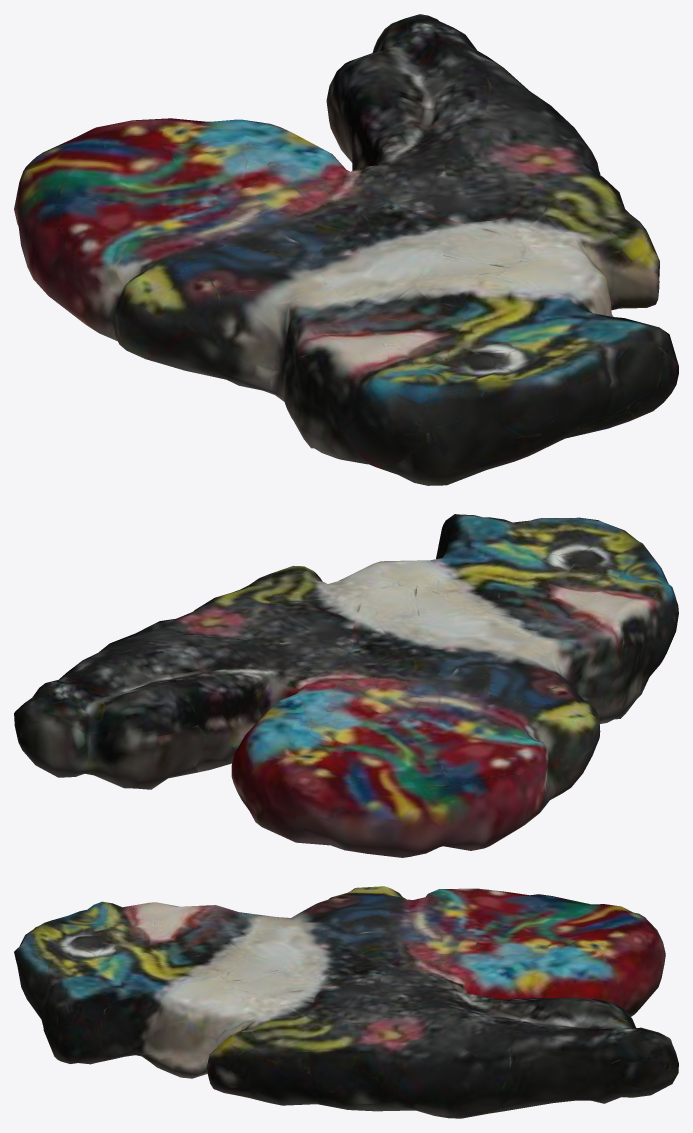
Rendered from hall.glb.
3 renders of one model, top to bottom at view 1: azimuth 30°, elevation 25°; view 2: azimuth 150°, elevation 25°; view 3: azimuth 270°, elevation 25°, orthographic. The views are drawn at different scales.
Size of the model in its own units: 0.4876 by 0.1278 by 0.6853.
1 material, 1 textured.
